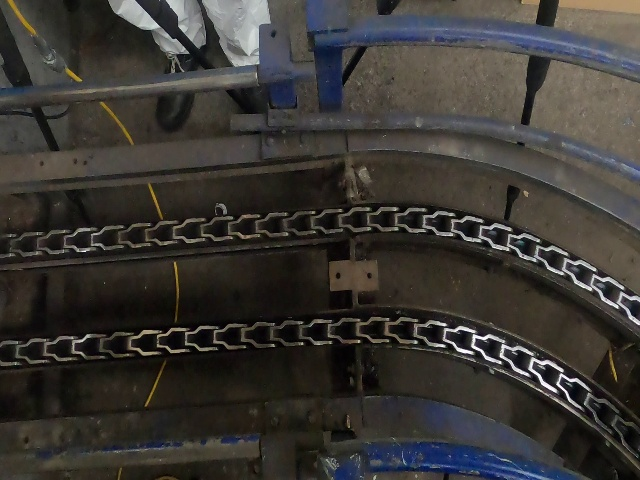gas_bottle: (7, 2, 640, 480)
